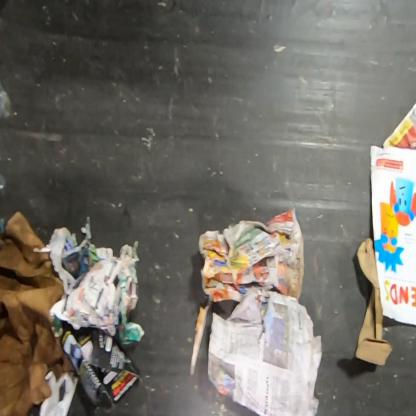cardboard: (355, 237, 393, 366)
soft_plastic: (0, 83, 13, 121)
